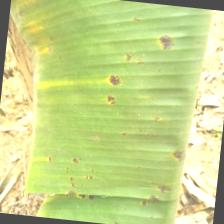pestalotiopsis: (0, 0, 211, 224)
